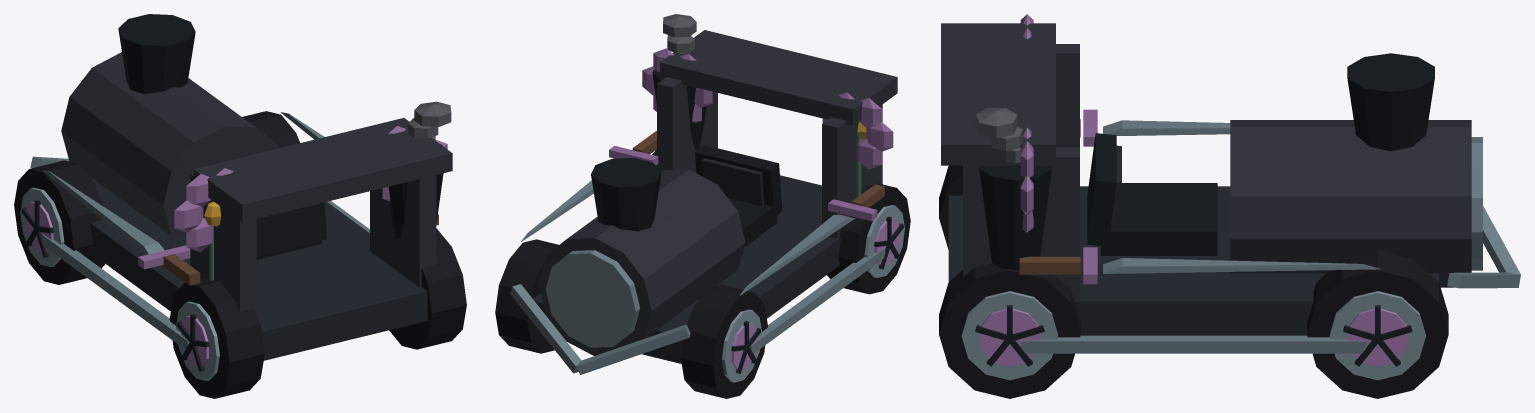
File: kart.glb
The picture shows the model from 3 angles, left to right: view 1: azimuth 30°, elevation 25°; view 2: azimuth 150°, elevation 25°; view 3: azimuth 270°, elevation 25°; orthographic projection. The views are drawn at different scales.
Visible parts, largest first — view 1: identity-train-locomotive-boiler-and-cowcatcher, wheel-rear-left, wheel-front-left, wheel-rear-right, identity-train-motif-swords, identity-train-driver-cockpit, identity-train-motif-flowers, identity-train-motif-steam, wheel-front-right; view 2: identity-train-locomotive-boiler-and-cowcatcher, wheel-front-left, wheel-rear-left, identity-train-driver-cockpit, identity-train-motif-swords, wheel-front-right, identity-train-motif-flowers, identity-train-motif-steam; view 3: identity-train-locomotive-boiler-and-cowcatcher, wheel-front-right, wheel-rear-right, identity-train-driver-cockpit, identity-train-motif-steam, identity-train-motif-swords, identity-train-motif-flowers, wheel-rear-left.
Boxes of the visible parts, x1,y1,x2,y2 form: identity-train-locomotive-boiler-and-cowcatcher: [30, 14, 452, 360]; wheel-rear-left: [169, 278, 264, 398]; wheel-front-left: [14, 160, 104, 284]; wheel-rear-right: [389, 228, 466, 349]; identity-train-motif-swords: [42, 112, 438, 285]; identity-train-driver-cockpit: [256, 202, 326, 259]; identity-train-motif-flowers: [174, 126, 447, 280]; identity-train-motif-steam: [388, 101, 451, 238]; wheel-front-right: [242, 111, 299, 147]; identity-train-locomotive-boiler-and-cowcatcher: [510, 30, 897, 374]; wheel-front-left: [680, 284, 767, 398]; wheel-rear-left: [827, 183, 910, 294]; identity-train-driver-cockpit: [695, 145, 782, 246]; identity-train-motif-swords: [521, 131, 884, 295]; wheel-front-right: [495, 239, 558, 353]; identity-train-motif-flowers: [642, 48, 893, 196]; identity-train-motif-steam: [652, 14, 706, 150]; identity-train-locomotive-boiler-and-cowcatcher: [941, 23, 1520, 353]; wheel-front-right: [1307, 250, 1448, 398]; wheel-rear-right: [939, 263, 1080, 398]; identity-train-driver-cockpit: [1087, 133, 1217, 255]; identity-train-motif-steam: [975, 108, 1051, 269]; identity-train-motif-swords: [1019, 109, 1380, 284]; identity-train-motif-flowers: [1020, 14, 1033, 232]; wheel-rear-left: [939, 165, 962, 249].
Bounding box in the file's own units: 2.04 × 1.63 × 3.04.
